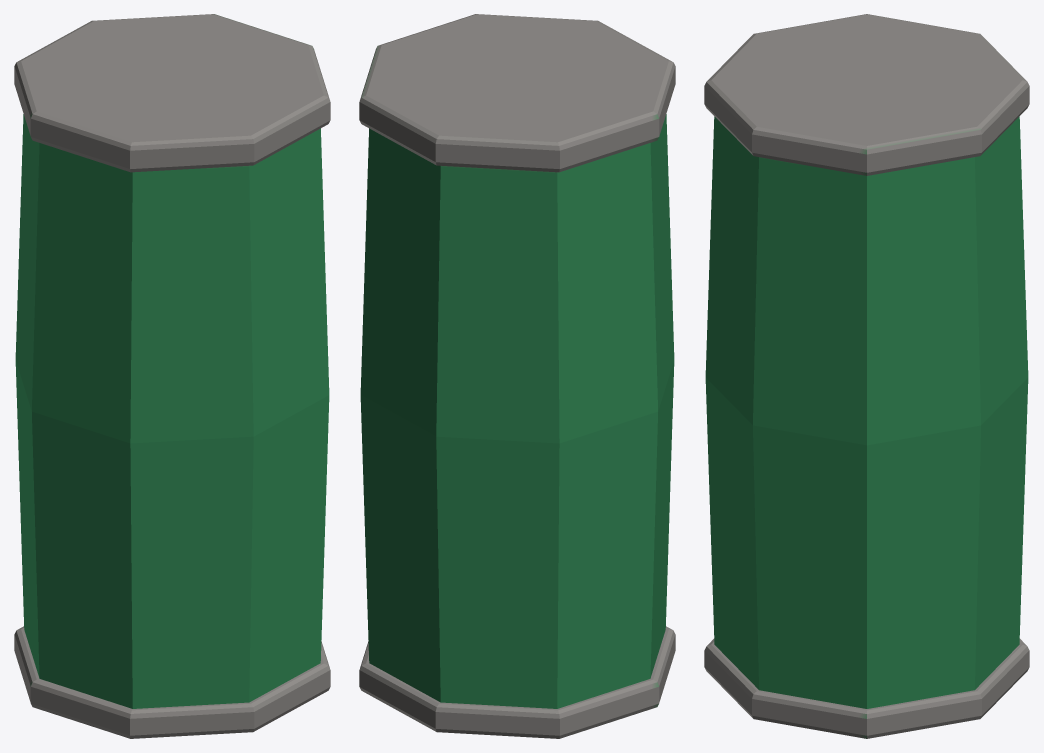
The model's file is tank.glb.
The picture shows the model from 3 angles, left to right: view 1: azimuth 30°, elevation 25°; view 2: azimuth 150°, elevation 25°; view 3: azimuth 270°, elevation 25°; orthographic projection.
Visible parts, largest first — view 1: Cylinder; view 2: Cylinder; view 3: Cylinder.
Boxes of the visible parts, x1,y1,x2,y2 form: Cylinder: [14, 14, 330, 738]; Cylinder: [359, 14, 675, 738]; Cylinder: [704, 14, 1029, 738].
Size of the model in its own units: 3.98 by 8 by 3.98.
Materials: 1 (1 with a texture image).
